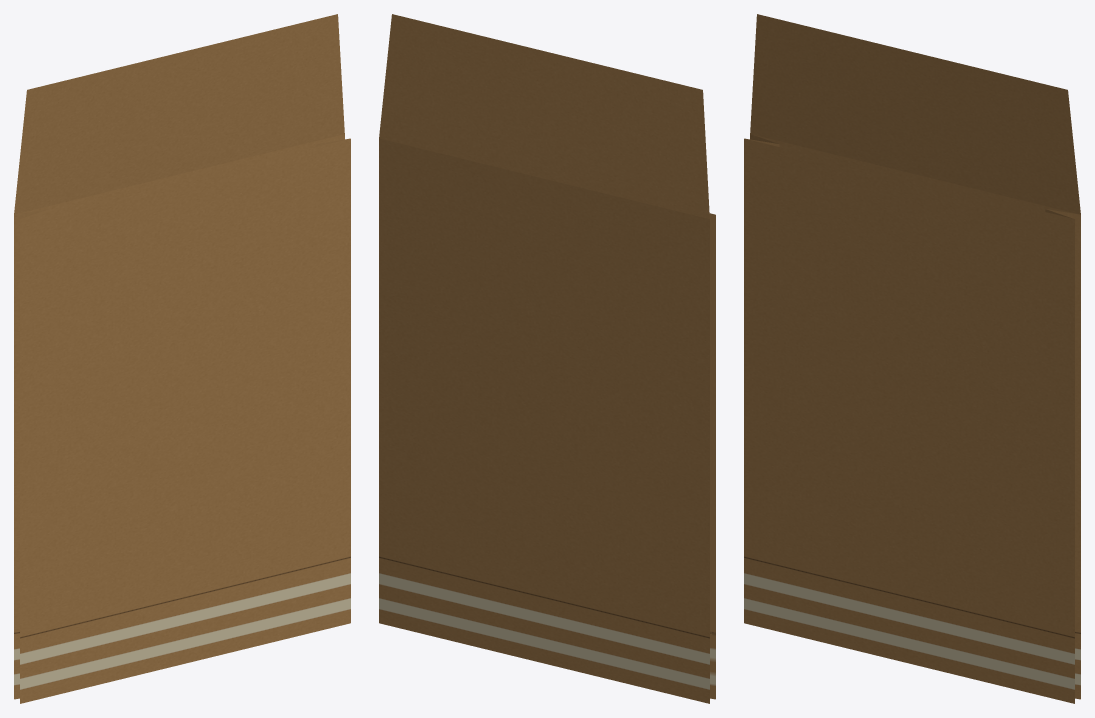
3 views of the same model, side by side, from view 1: azimuth 30°, elevation 25°; view 2: azimuth 150°, elevation 25°; view 3: azimuth 330°, elevation 25° (orthographic).
Size of the model in its own units: 0.25 by 0.44 by 0.008.
1 material, 1 textured.
